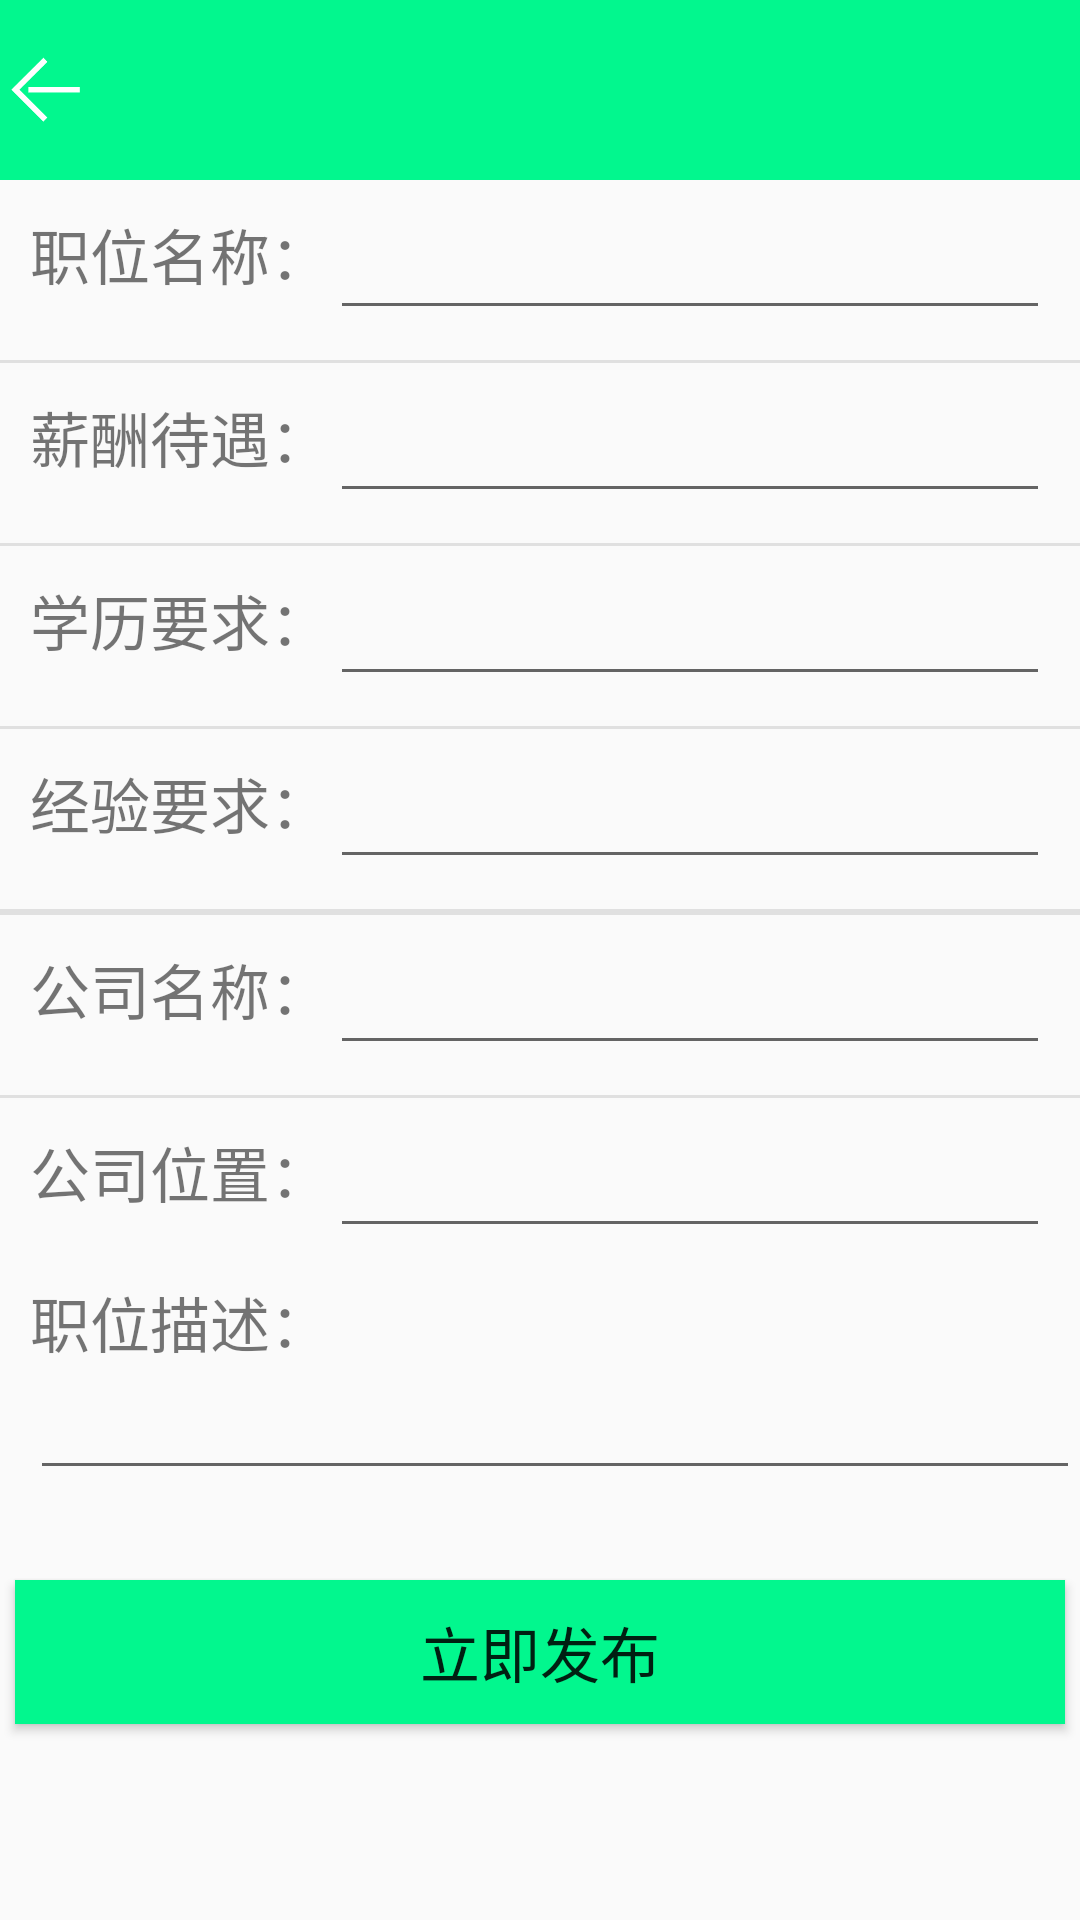

Locate icon controls on the screen. Image size 1080w x 1920h, boxes as (x1, y1, x2, y2).
back: (11, 57, 80, 122)
